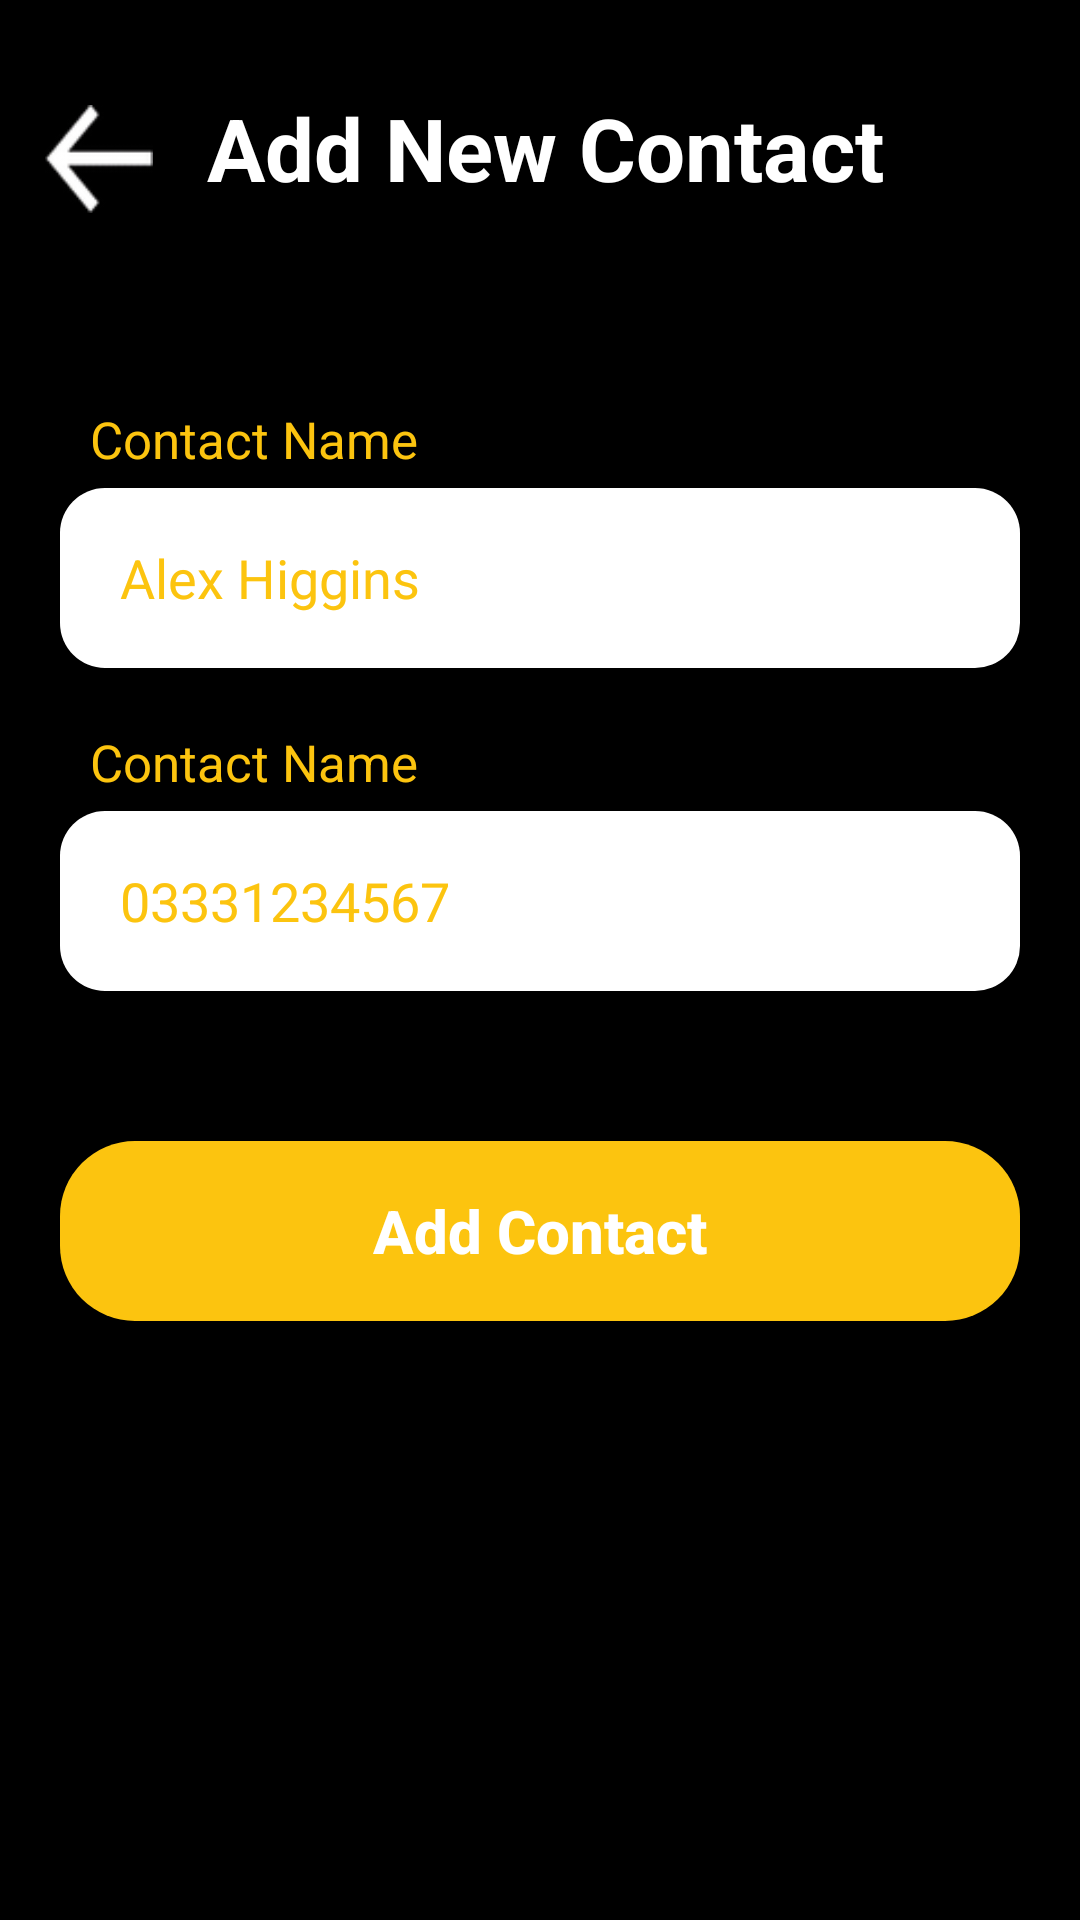

Icons on this 1080 × 1920 Android screen, each with its box as (x1, y1, x2, y2):
backarrow page: (45, 105, 153, 213)
